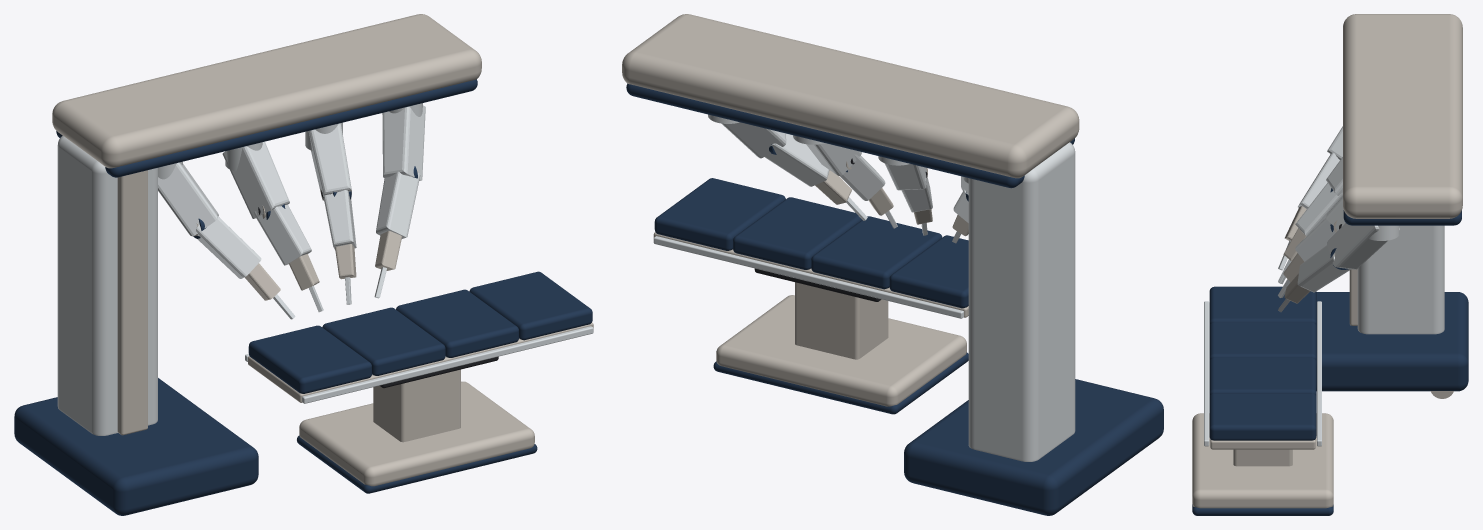
Rendered from robots-37.glb.
The picture shows the model from 3 angles, left to right: view 1: azimuth 30°, elevation 25°; view 2: azimuth 150°, elevation 25°; view 3: azimuth 270°, elevation 25°; orthographic projection. The views are drawn at different scales.
Visible parts, largest first — view 1: gantry, column, pads, lift, base, links, tabletop, holders, pivots, tools; view 2: gantry, column, lift, pads, base, links, tabletop, holders, pivots; view 3: gantry, pads, base, lift, column, links, tabletop, holders, pivots, tools.
Part boxes in pixels (<box>): gantry: <box>52,14,481,177</box>; column: <box>57,136,157,435</box>; pads: <box>248,271,592,393</box>; lift: <box>297,356,537,493</box>; base: <box>14,378,258,515</box>; links: <box>158,105,425,278</box>; tabletop: <box>245,322,593,403</box>; holders: <box>245,231,402,300</box>; pivots: <box>158,103,422,238</box>; tools: <box>273,267,386,319</box>; gantry: <box>622,14,1079,188</box>; column: <box>968,142,1075,461</box>; lift: <box>713,268,968,414</box>; pads: <box>654,178,968,308</box>; base: <box>904,379,1163,515</box>; links: <box>722,122,968,222</box>; tabletop: <box>653,232,968,318</box>; holders: <box>815,170,968,236</box>; pivots: <box>708,114,968,201</box>; gantry: <box>1343,14,1462,225</box>; pads: <box>1209,286,1316,440</box>; base: <box>1316,292,1468,391</box>; lift: <box>1192,413,1333,515</box>; column: <box>1349,225,1444,334</box>; links: <box>1295,126,1399,292</box>; tabletop: <box>1204,301,1321,449</box>; holders: <box>1283,206,1310,303</box>; pivots: <box>1330,154,1399,269</box>; tools: <box>1278,240,1291,312</box>.
Size of the model in its own units: 3.14 by 2.27 by 1.68.
